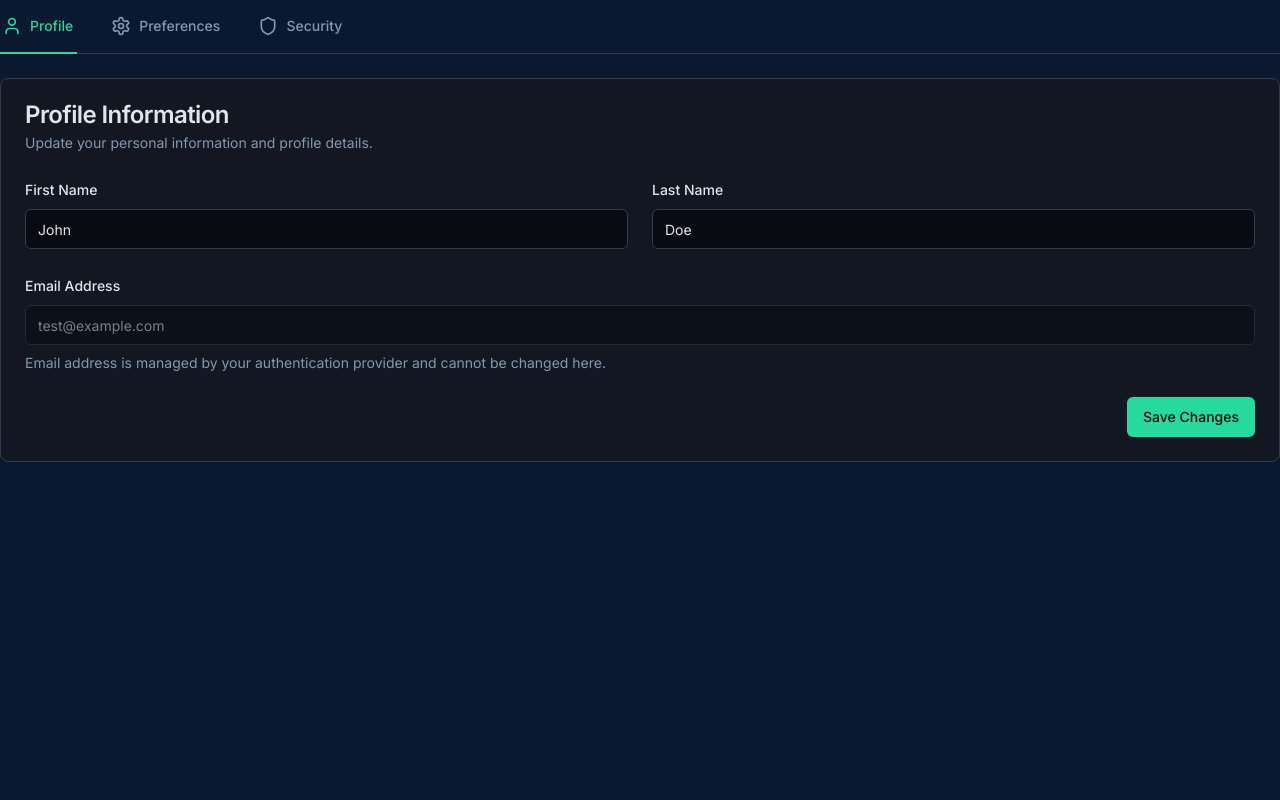
Test: UserProfile › Error Handling › clears error messages when switching tabs
Click the button "Save Changes" at (1191,417), box [1127, 397, 1255, 437]
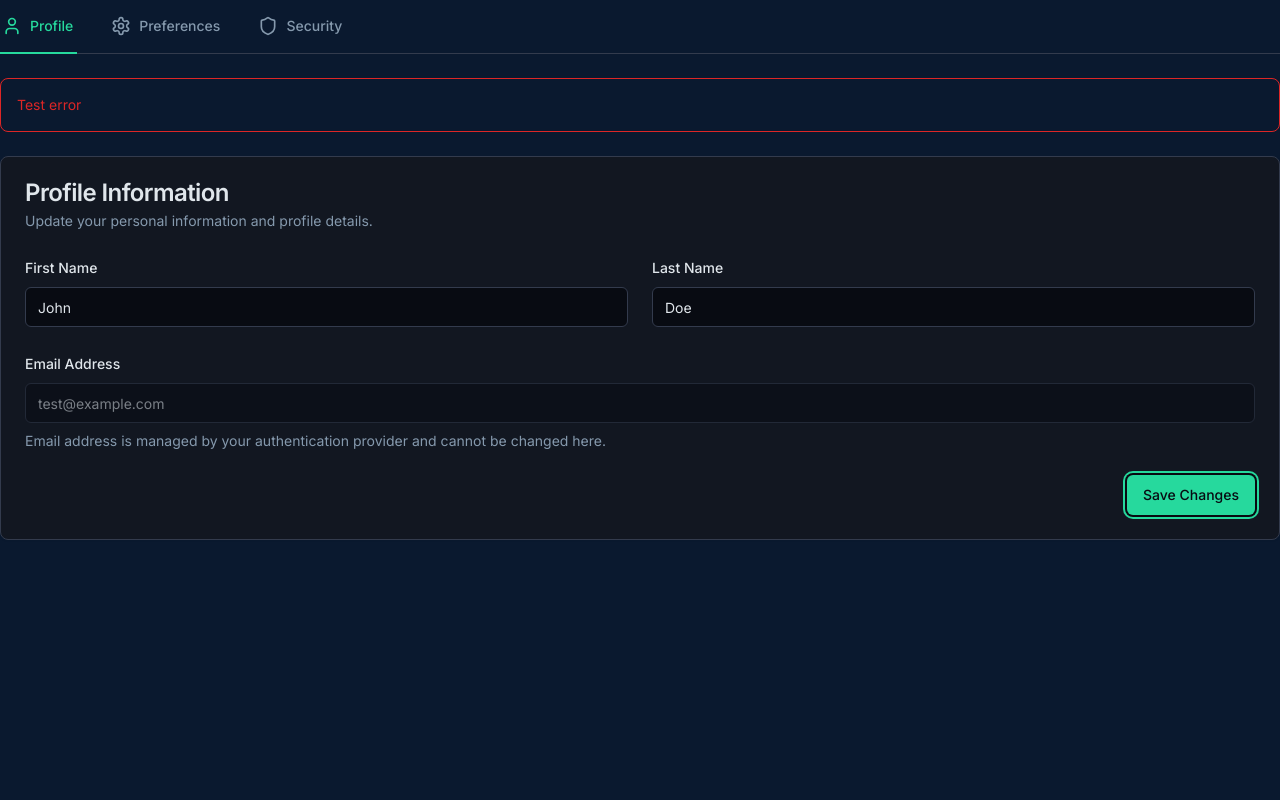
Check: the text "Test error" is shown, box [17, 96, 81, 113]
Click the tab "Preferences" at (167,27), box [109, 0, 224, 54]
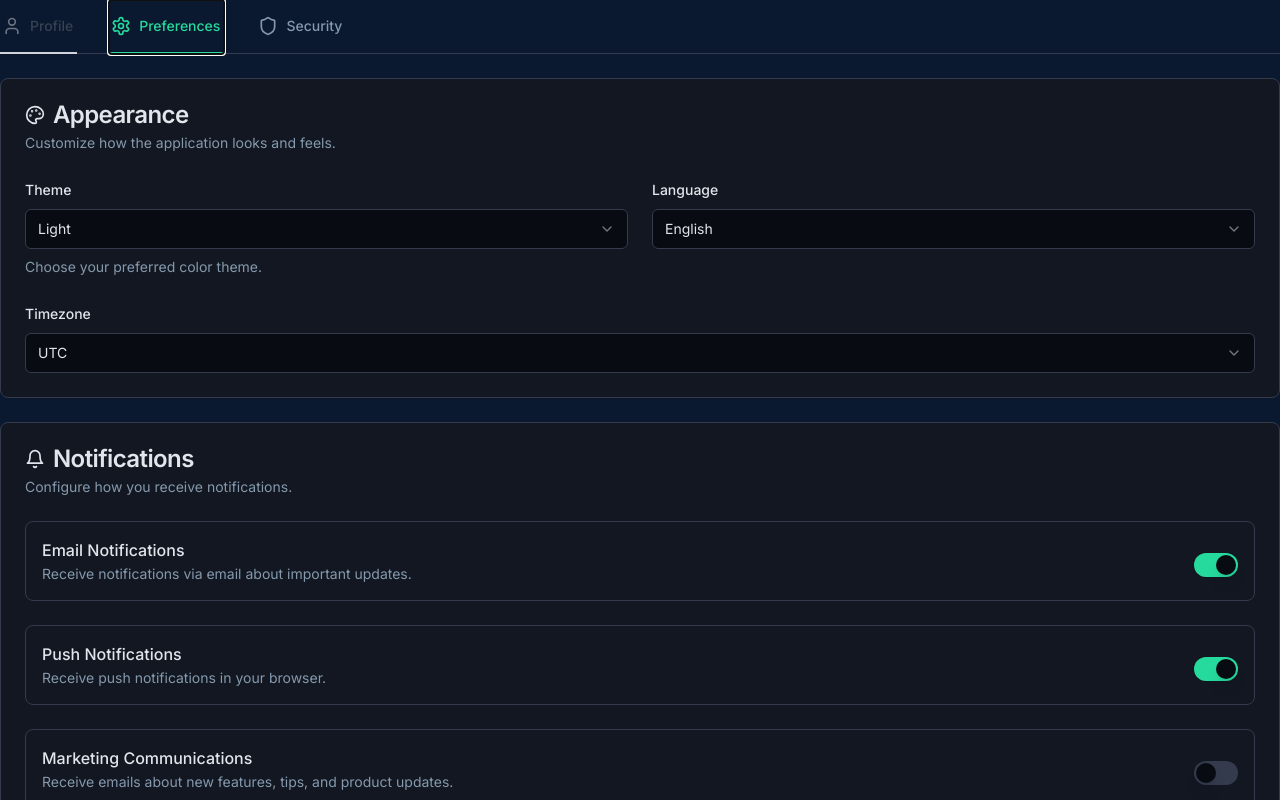
Check: the text "Test error" is gone
